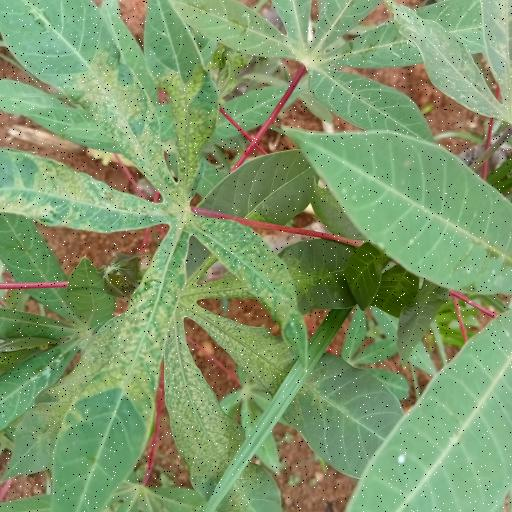Cassava_Mosaic: (0, 5, 286, 497)
